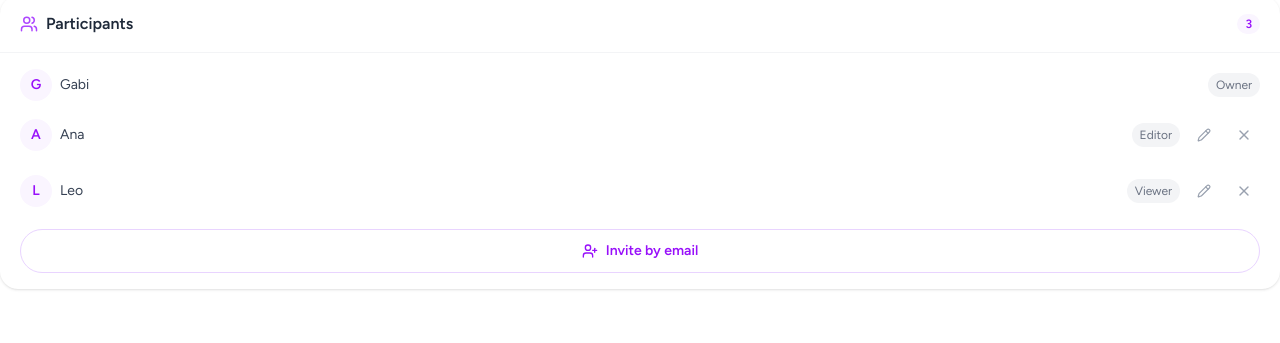
Test: Participants › changing roles › explains a 401 failure
Click the button named "Change role of Ana". click: (1204,135)
box: [1188,113,1220,157]
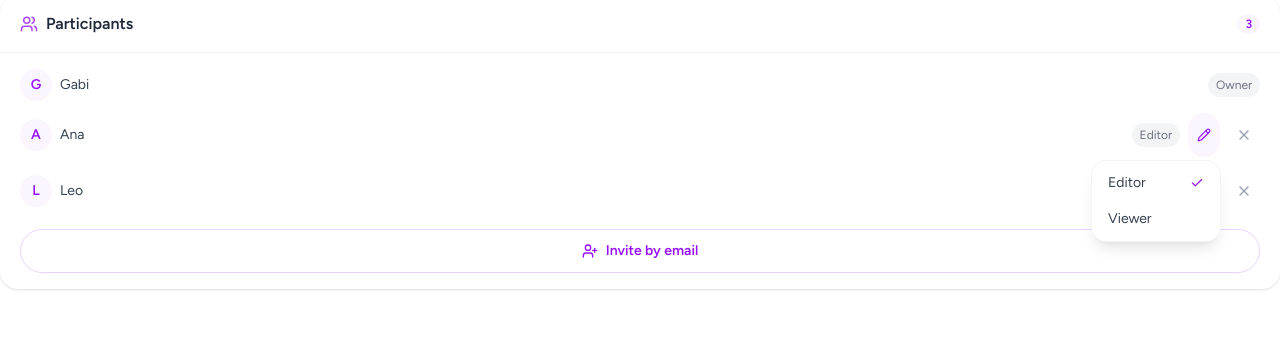
Click the menu item "Viewer". click: (1130,218)
box: [1108,210,1152,227]
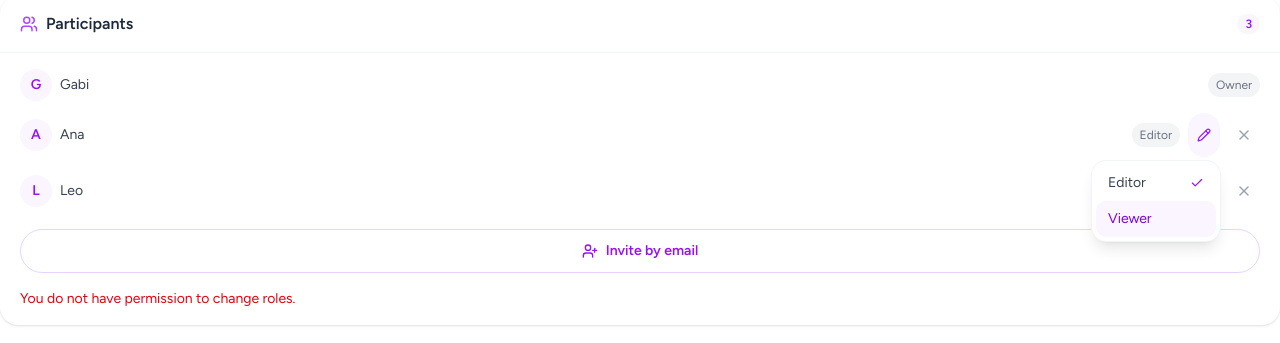
Result: the message reads "You do not have permission to change roles." at [20,290,296,307]
